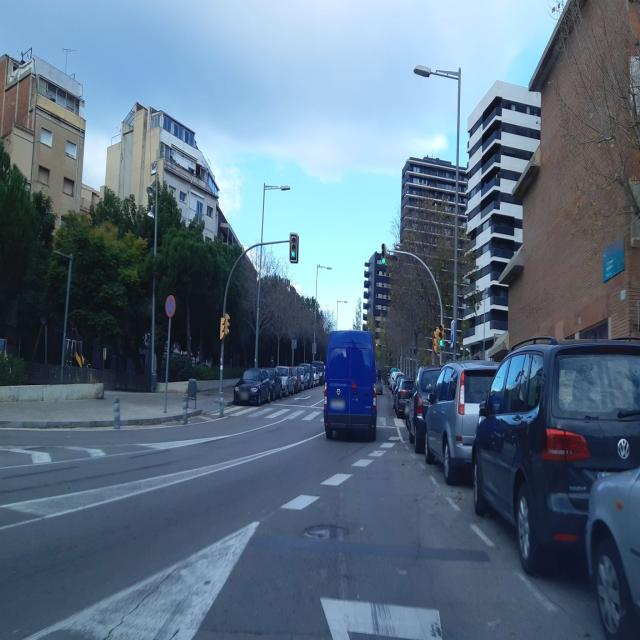car: (471, 332, 640, 576), (584, 432, 640, 638), (423, 358, 501, 484), (323, 328, 378, 440), (406, 364, 443, 453), (233, 367, 271, 406), (394, 377, 414, 418), (275, 365, 295, 396), (264, 368, 282, 400), (390, 370, 404, 401), (290, 365, 304, 392), (299, 364, 312, 389), (312, 361, 325, 385), (302, 364, 313, 388), (311, 364, 319, 387), (376, 377, 384, 394)
